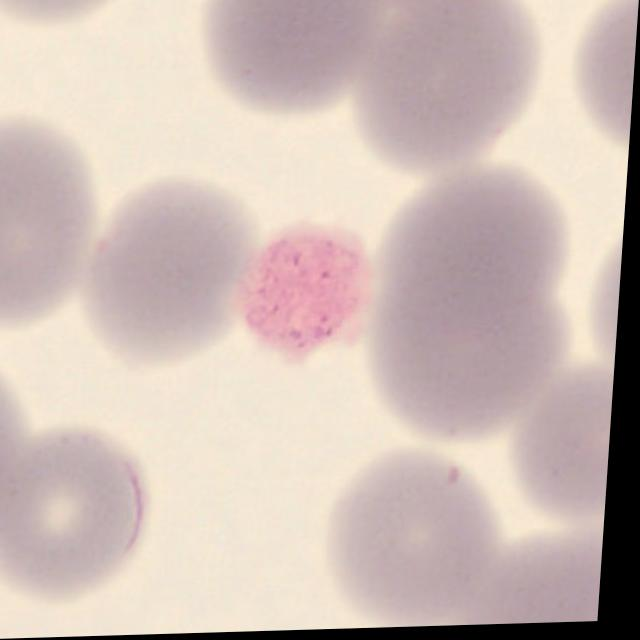Artefato: (239, 221, 378, 367)
